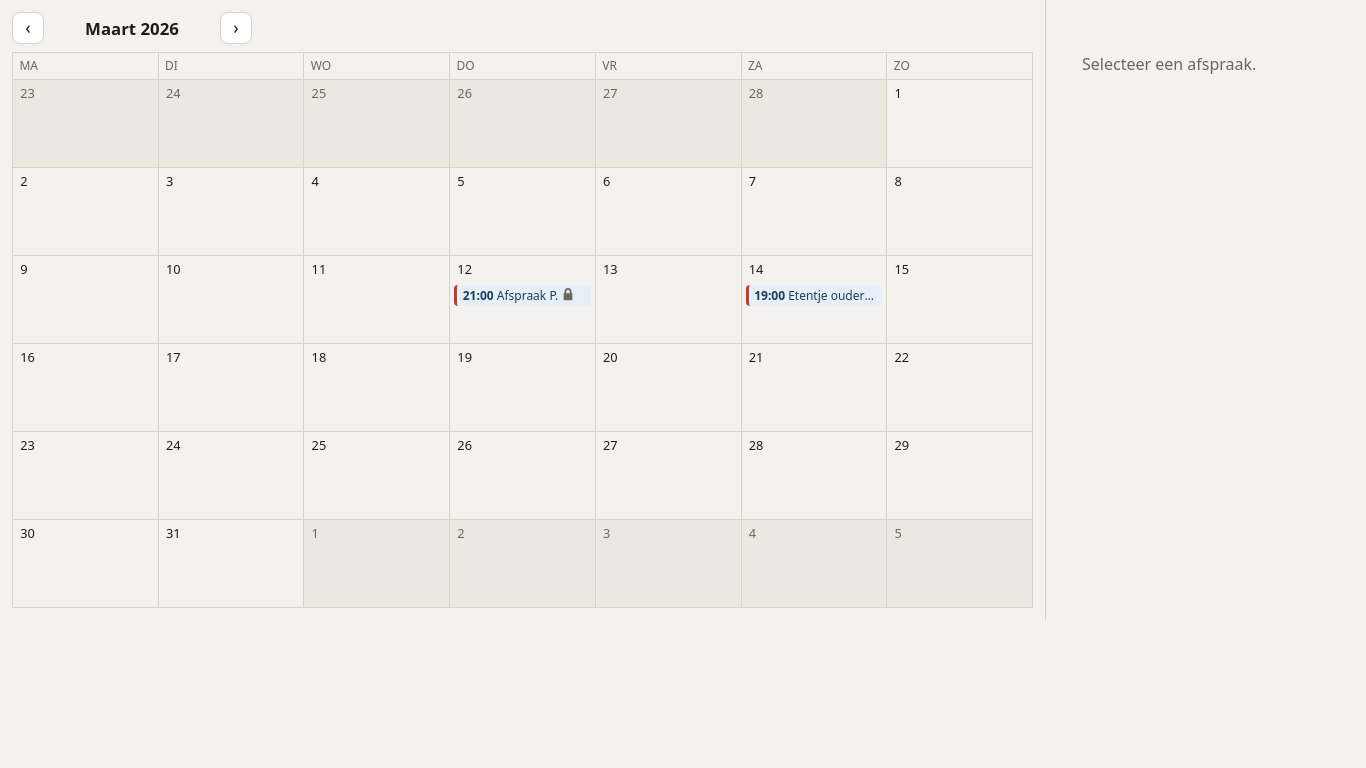
Test: CalendarAppView › CalendarAppView_givenMonthWithoutEvents_expectEmptyMessage
Step 1. Click the button named "Volgende maand" → [236, 28], box [220, 12, 252, 44]
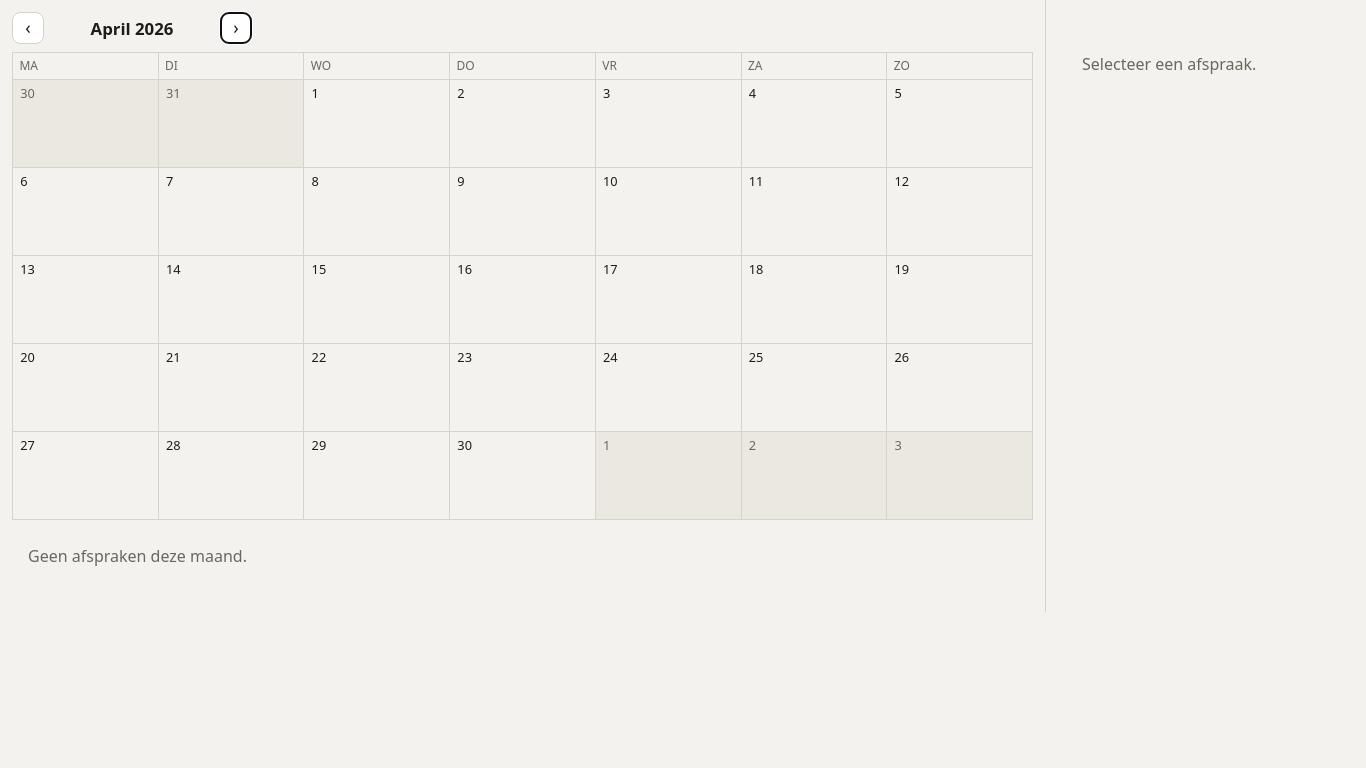
Expected: the text "Geen afspraken deze maand." is shown, [28, 545, 247, 567]
